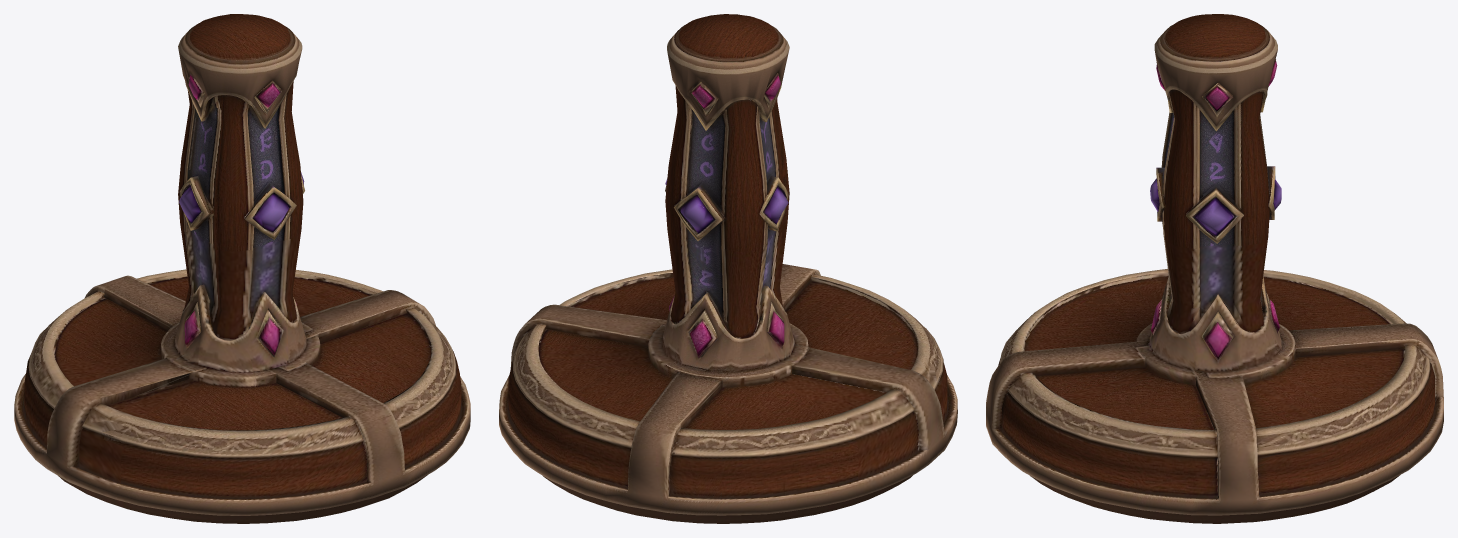
Rendered from tripo_convert_13faced8-e78e-4f66-a249-e00441f1361a.fbx.
3 renders of one model, left to right at view 1: azimuth 30°, elevation 25°; view 2: azimuth 150°, elevation 25°; view 3: azimuth 270°, elevation 25°, orthographic.
Parts seen in each view (by area): view 1: tripo_node_13faced8; view 2: tripo_node_13faced8; view 3: tripo_node_13faced8.
Part boxes in pixels (x1=…): tripo_node_13faced8: x1=14, y1=14, x2=470, y2=523; tripo_node_13faced8: x1=499, y1=14, x2=957, y2=523; tripo_node_13faced8: x1=986, y1=14, x2=1443, y2=523.
Bounding box in the file's own units: 0.998 × 0.9824 × 0.998.
1 material, 1 textured.
